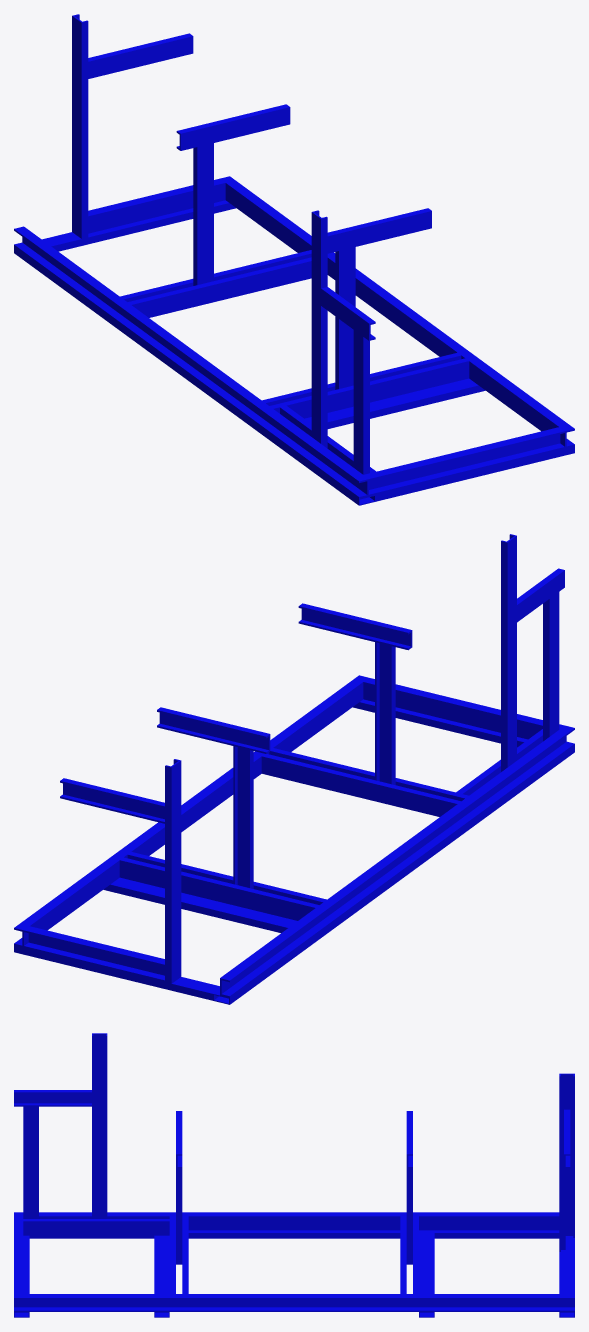
The model's file is ragangan.dae.
The picture shows the model from 3 angles, top to bottom: view 1: azimuth 30°, elevation 25°; view 2: azimuth 150°, elevation 25°; view 3: azimuth 270°, elevation 25°; orthographic projection. The views are drawn at different scales.
Visible parts, largest first — view 1: group_8, group_10, group_16, group_13, group_3, group_18, group_22, group_23, group_1, group_21, group_19, group_5 (+10 smaller); view 2: group_8, group_10, group_2, group_12, group_18, group_3, group_1, group_16, group_23, group_7, group_17, group_21 (+10 smaller); view 3: group_10, group_8, group_21, group_3, group_6, group_18, group_5, group_9, group_17, group_4, group_16, group_7 (+10 smaller).
Part boxes in pixels (box(x1,y1,x2,y2)): group_8: box(14, 226, 368, 498); group_10: box(220, 176, 574, 448); group_16: box(363, 427, 564, 496); group_13: box(128, 257, 311, 317); group_3: box(311, 210, 327, 448); group_18: box(72, 14, 88, 238); group_22: box(269, 358, 469, 418); group_23: box(193, 143, 213, 285); group_1: box(72, 178, 225, 235); group_21: box(14, 246, 375, 505); group_19: box(176, 104, 290, 150); group_5: box(353, 330, 369, 474); group_8: box(220, 725, 574, 997); group_10: box(14, 675, 368, 947); group_2: box(261, 754, 460, 816); group_12: box(119, 857, 319, 920); group_18: box(165, 759, 181, 990); group_3: box(501, 534, 516, 771); group_1: box(24, 926, 177, 983); group_16: box(363, 678, 564, 739); group_23: box(233, 746, 253, 888); group_7: box(375, 642, 395, 784); group_17: box(103, 877, 297, 932); group_21: box(213, 745, 574, 1004); group_10: box(14, 1294, 574, 1311); group_8: box(14, 1212, 559, 1230); group_21: box(29, 1230, 559, 1238); group_3: box(92, 1033, 107, 1218); group_6: box(23, 1219, 169, 1235); group_18: box(559, 1073, 574, 1251); group_5: box(23, 1106, 38, 1218); group_9: box(14, 1090, 91, 1106); group_17: box(419, 1233, 434, 1317); group_4: box(154, 1235, 169, 1317); group_16: box(14, 1216, 23, 1293); group_7: box(176, 1168, 182, 1264).
Bounding box in the file's own units: 51.18 × 142 × 56.48.
